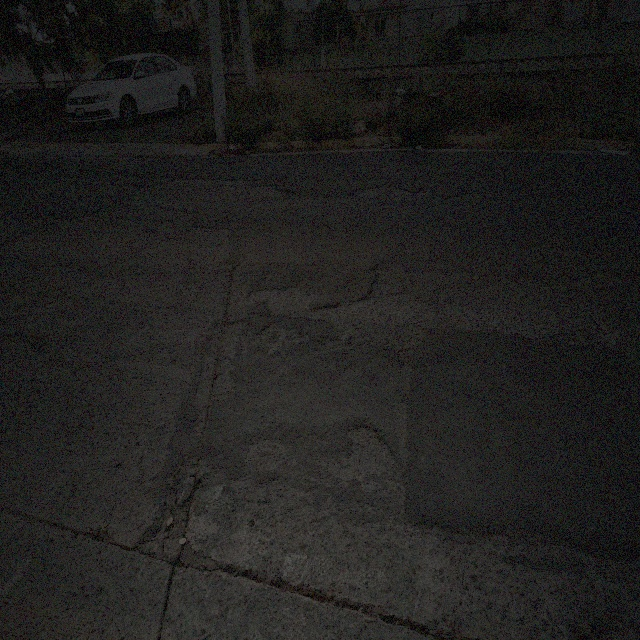pothole: (135, 456, 207, 560), (330, 424, 397, 482), (248, 287, 314, 322), (348, 185, 430, 204), (77, 522, 114, 549), (254, 183, 296, 199), (448, 189, 498, 199), (453, 170, 468, 183)
